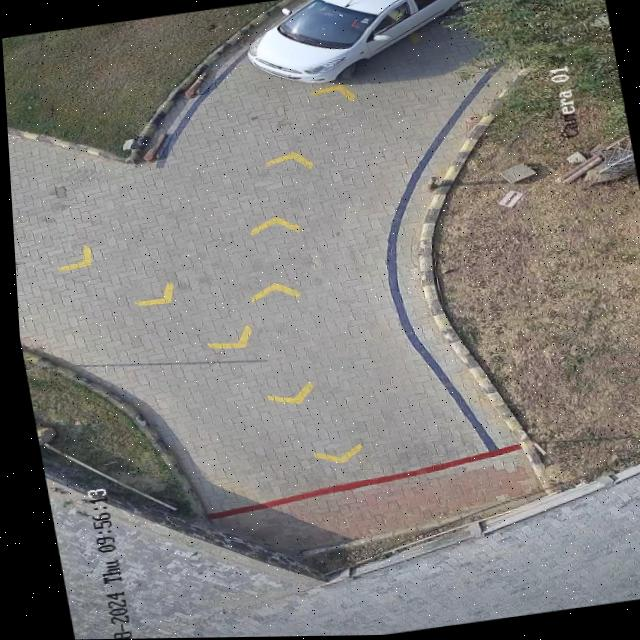car: (247, 0, 459, 82)
